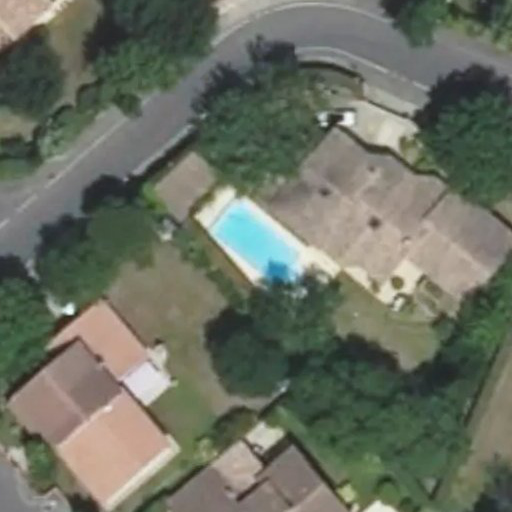pool: (211, 230, 309, 262)
